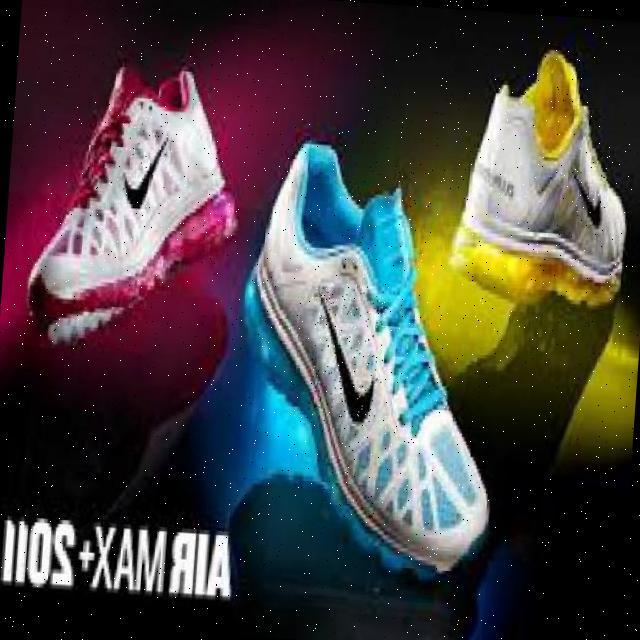Nike: (307, 282, 389, 424), (119, 118, 174, 215), (571, 162, 609, 222)
